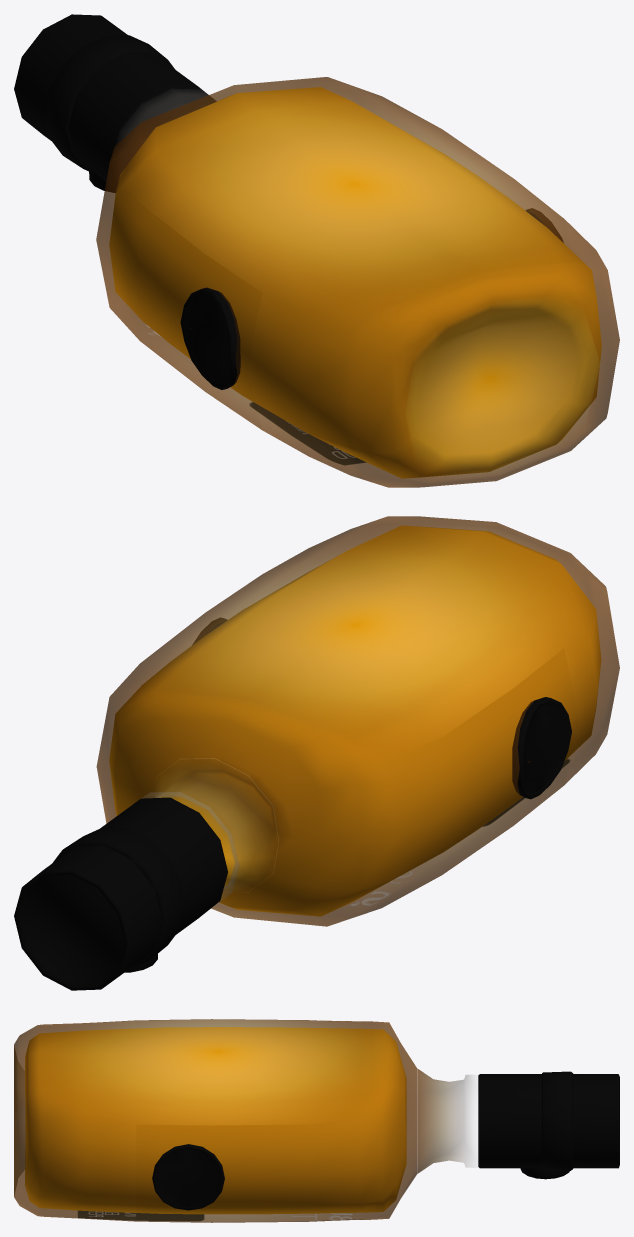
The model's file is BotellaUltraLight.glb.
3 renders of one model, top to bottom at view 1: azimuth 30°, elevation 25°; view 2: azimuth 150°, elevation 25°; view 3: azimuth 270°, elevation 25°, orthographic. The views are drawn at different scales.
Parts seen in each view (by area): view 1: Botella.003, Liquido.002, Tapa.002, Selloizq.003, Cil.006; view 2: Botella.003, Liquido.002, Tapa.002, Selloizq.003, Cil.006; view 3: Botella.003, Liquido.002, Tapa.002, Selloizq.004, Cil.006, Cil.005.
Boxes of the visible parts, left/top/right/bottom form: Botella.003: left=96, top=77, right=619, bottom=487; Liquido.002: left=109, top=87, right=601, bottom=478; Tapa.002: left=14, top=14, right=215, bottom=188; Selloizq.003: left=180, top=287, right=240, bottom=389; Cil.006: left=45, top=35, right=174, bottom=174; Botella.003: left=96, top=516, right=619, bottom=926; Liquido.002: left=109, top=525, right=601, bottom=916; Tapa.002: left=14, top=797, right=227, bottom=990; Selloizq.003: left=512, top=697, right=571, bottom=799; Cil.006: left=53, top=827, right=185, bottom=969; Botella.003: left=14, top=1019, right=475, bottom=1222; Liquido.002: left=25, top=1027, right=406, bottom=1214; Tapa.002: left=478, top=1074, right=619, bottom=1168; Selloizq.004: left=152, top=1144, right=224, bottom=1210; Cil.006: left=542, top=1071, right=573, bottom=1170; Cil.005: left=520, top=1167, right=569, bottom=1179.
Size of the model in its own units: 0.4417 by 0.2654 by 0.9588.
5 materials, 1 textured.
